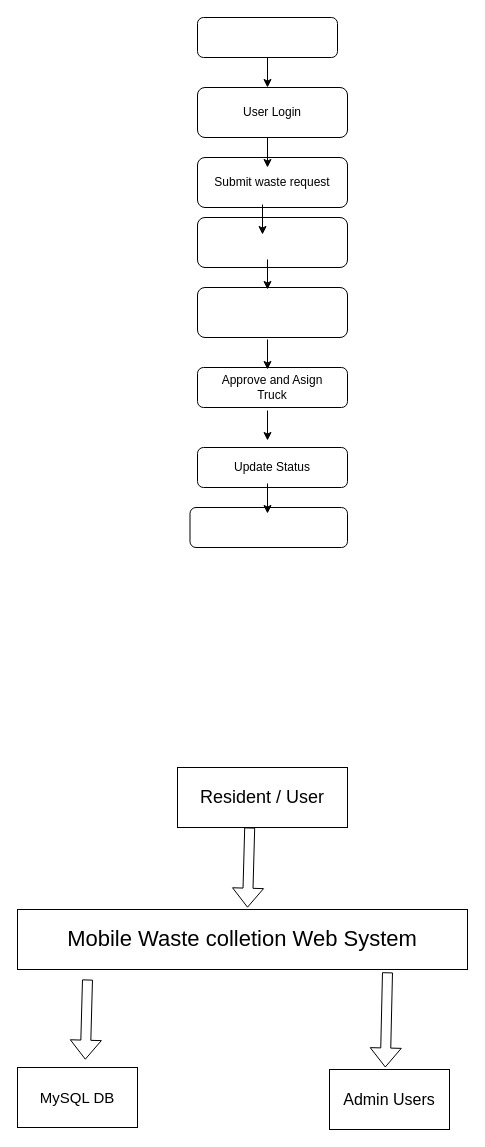
Image size: 485x1147. Some labels were removed from this diagram. The shapes that lost their labels are listed below. From the top down, each one's centre as x and y in pixels, then its label:
At [267,37]: "Start".
At [272,242]: "Request Saved toDB".
At [272,312]: "Admins View Request".
At [268,527]: "End".
